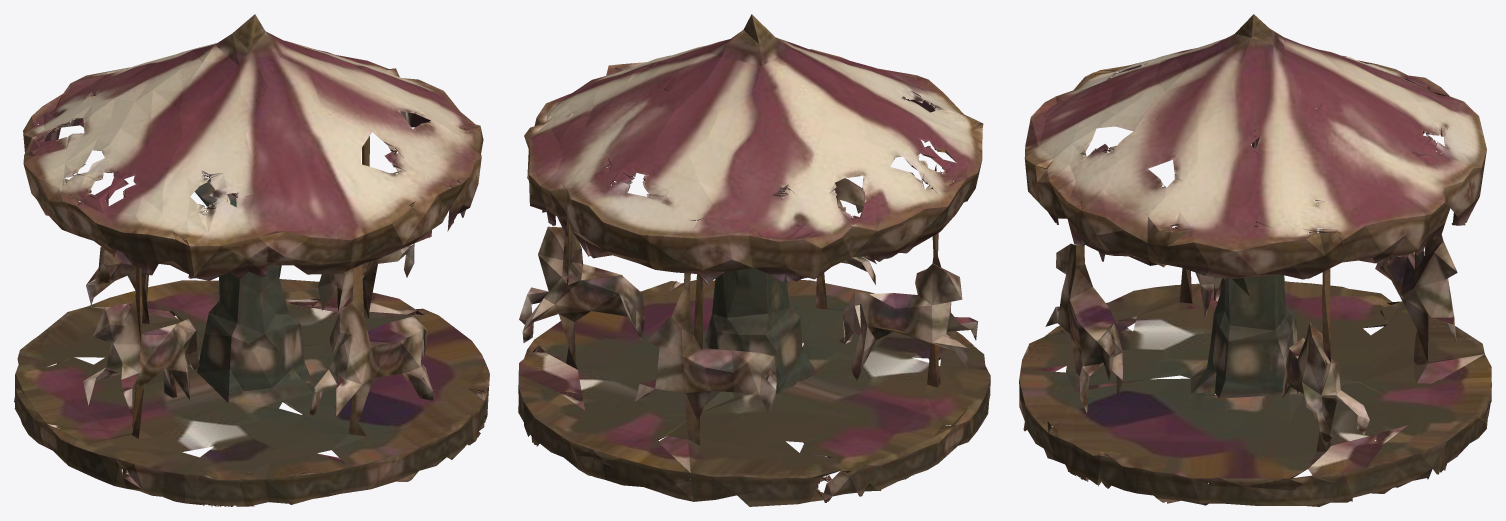
File: park_carousel_1117.glb
The picture shows the model from 3 angles, left to right: view 1: azimuth 30°, elevation 25°; view 2: azimuth 150°, elevation 25°; view 3: azimuth 270°, elevation 25°; orthographic projection.
Parts seen in each view (by area): view 1: world; view 2: world; view 3: world.
Boxes of the visible parts, x1,y1,x2,y2 form: world: (14, 14, 489, 506); world: (518, 14, 990, 506); world: (1019, 14, 1491, 506).
Size of the model in its own units: 1.08 by 1 by 1.08.
Materials: 1 (1 with a texture image).
